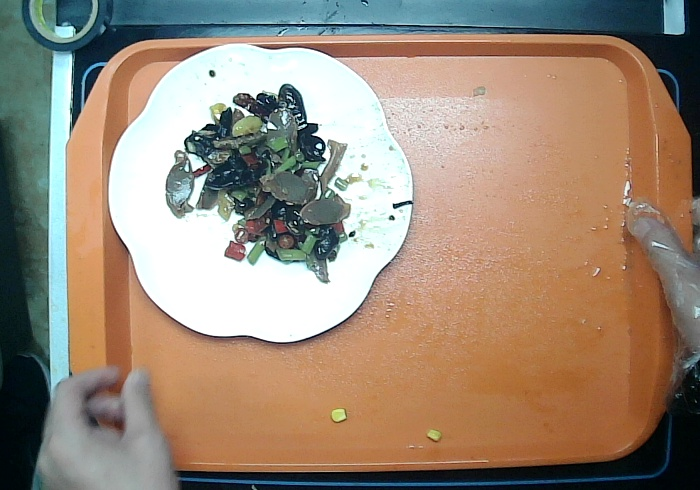HZYJPL-Bai_Se_Hua_Duo_Wan: (102, 38, 418, 344)
